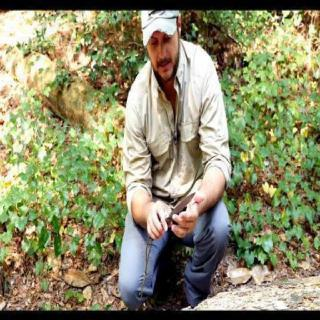knife: (146, 188, 198, 242)
